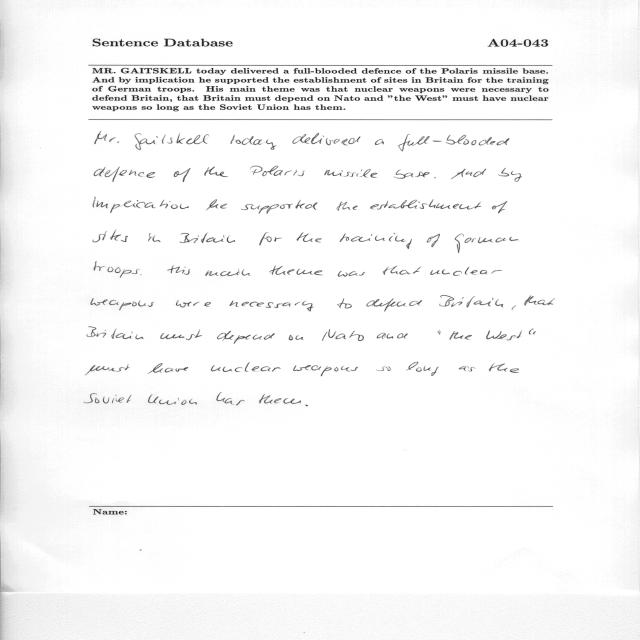word: (398, 134, 510, 151), (93, 197, 189, 213), (135, 133, 209, 150), (370, 199, 481, 210), (455, 234, 519, 253), (340, 233, 412, 249), (241, 200, 317, 214), (229, 301, 314, 312), (94, 167, 155, 182), (91, 298, 154, 311), (293, 133, 361, 145), (94, 261, 140, 278), (439, 296, 503, 308), (217, 331, 275, 344), (366, 299, 422, 312), (293, 365, 358, 376), (211, 362, 281, 372), (87, 327, 144, 339), (231, 135, 276, 150), (430, 267, 502, 276), (250, 166, 305, 176), (180, 233, 235, 243), (148, 394, 197, 405), (270, 266, 323, 276), (84, 393, 132, 404), (322, 329, 364, 341), (86, 364, 130, 375), (325, 169, 378, 178), (160, 329, 202, 340), (406, 362, 439, 376), (148, 363, 188, 374), (93, 230, 128, 242), (259, 394, 301, 404), (217, 393, 245, 406), (394, 169, 430, 179), (486, 331, 522, 341), (451, 169, 486, 179), (383, 266, 421, 275), (498, 168, 522, 182), (525, 295, 555, 306), (259, 232, 282, 246), (205, 269, 250, 276), (95, 132, 119, 145), (489, 363, 519, 373), (204, 166, 228, 177), (297, 233, 322, 243), (176, 301, 211, 308), (174, 168, 191, 182), (206, 200, 227, 211), (168, 265, 191, 275), (449, 331, 472, 340), (336, 202, 358, 211), (492, 201, 507, 214), (377, 333, 408, 339), (427, 234, 440, 247), (337, 298, 352, 309), (338, 271, 365, 277), (148, 233, 161, 242), (459, 366, 475, 371), (289, 335, 304, 340), (377, 367, 391, 371), (375, 139, 384, 145), (529, 329, 536, 335), (512, 306, 516, 310), (438, 330, 441, 335), (305, 405, 308, 407), (434, 178, 436, 179), (140, 274, 142, 275)
